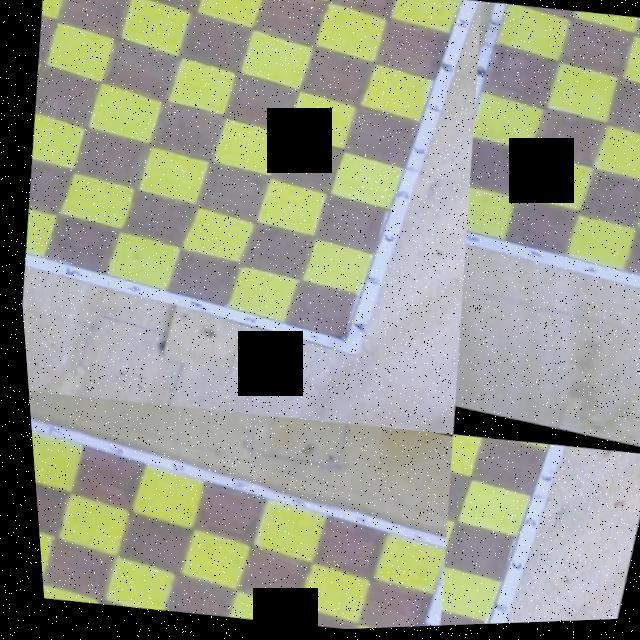chess-table-corners: (344, 341, 351, 347), (573, 452, 581, 456), (432, 550, 437, 555), (462, 3, 470, 6), (535, 12, 542, 14)
